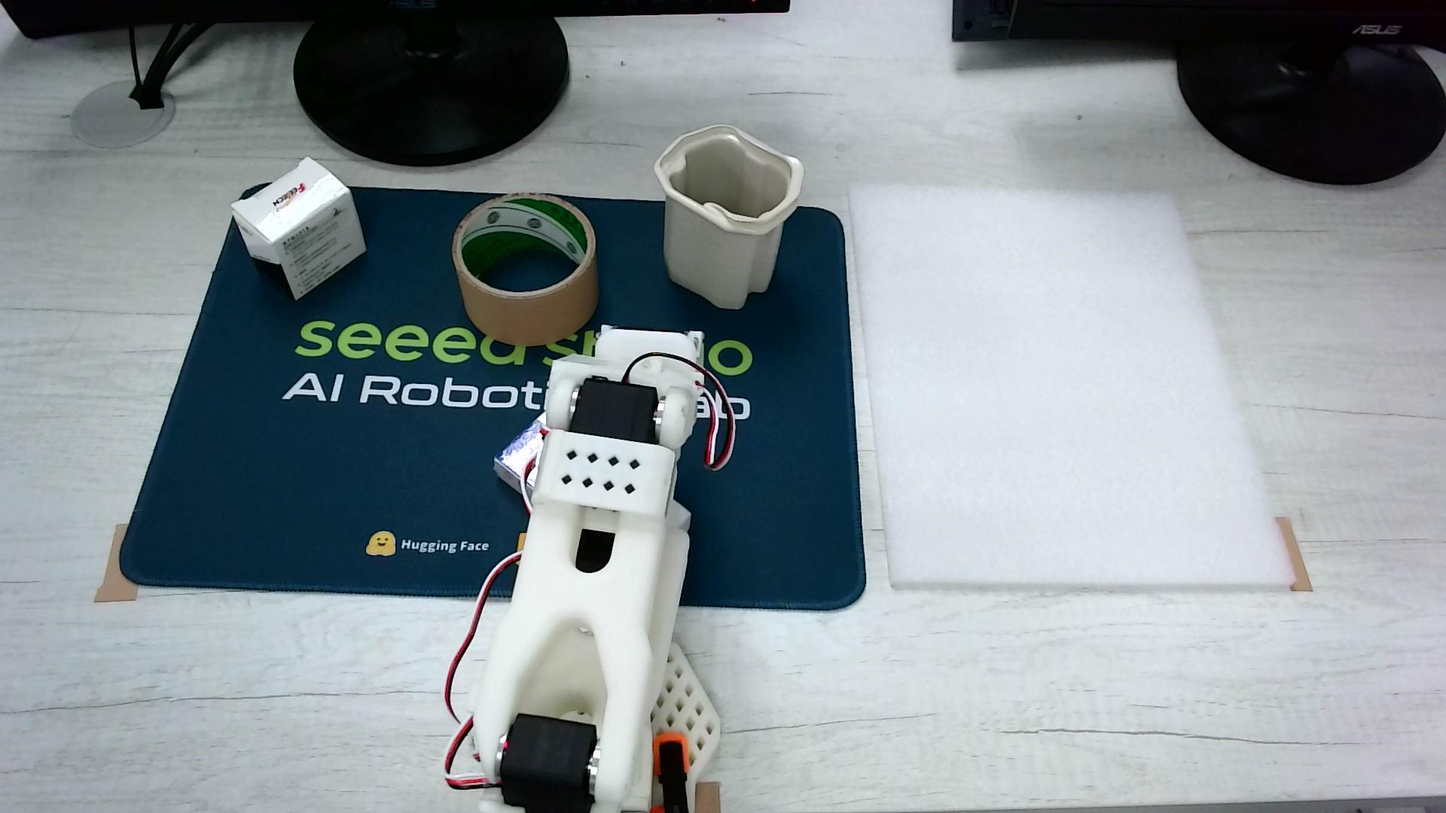eraser: (232, 157, 365, 300)
